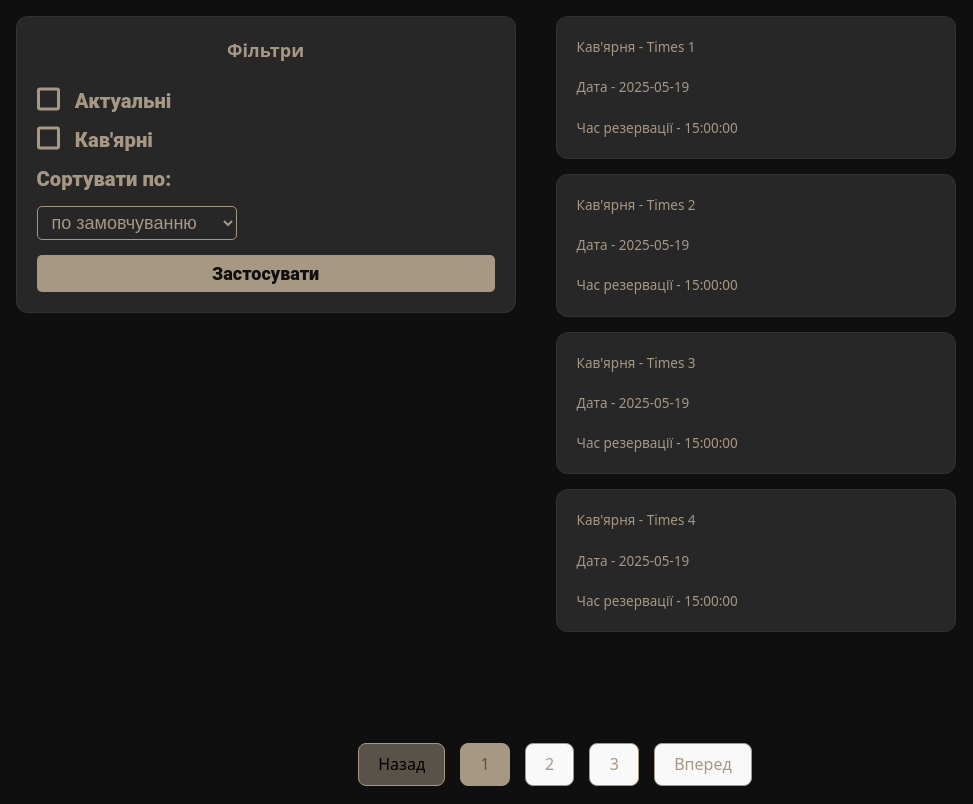
Test: Тестирование странички ProfileHistoryPage › Проверяем работу пагинации
This screenshot has width=973, height=804.
Expected: the text "Кав'ярня - Times 1" is shown, top-left (577, 38), bottom-right (696, 56)
Expected: the text "Кав'ярня - Times 2" is shown, top-left (577, 196), bottom-right (696, 214)
Click the button "Вперед" at (703, 764), box top-left (654, 743), bottom-right (752, 786)
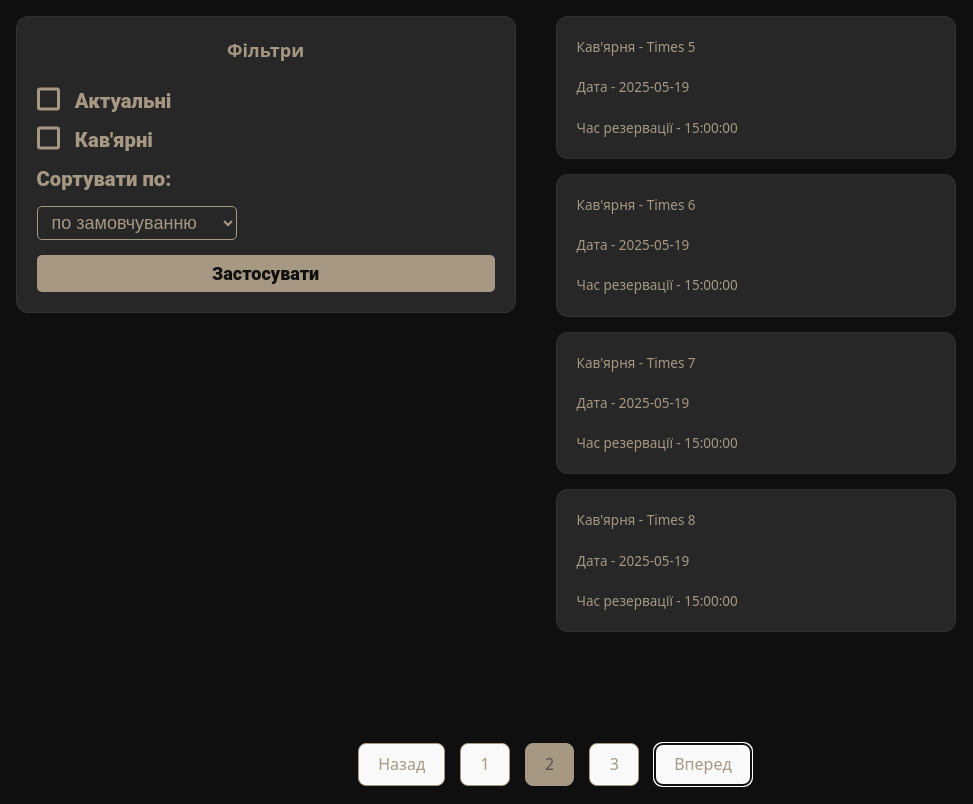
Now the text "Кав'ярня - Times 5" is shown, box top-left (577, 38), bottom-right (696, 56)
Now the text "Кав'ярня - Times 6" is shown, box top-left (577, 196), bottom-right (696, 214)
Now the text "Кав'ярня - Times 7" is shown, box top-left (577, 354), bottom-right (696, 372)
Click the button "3" at (614, 764), box top-left (590, 743), bottom-right (639, 786)
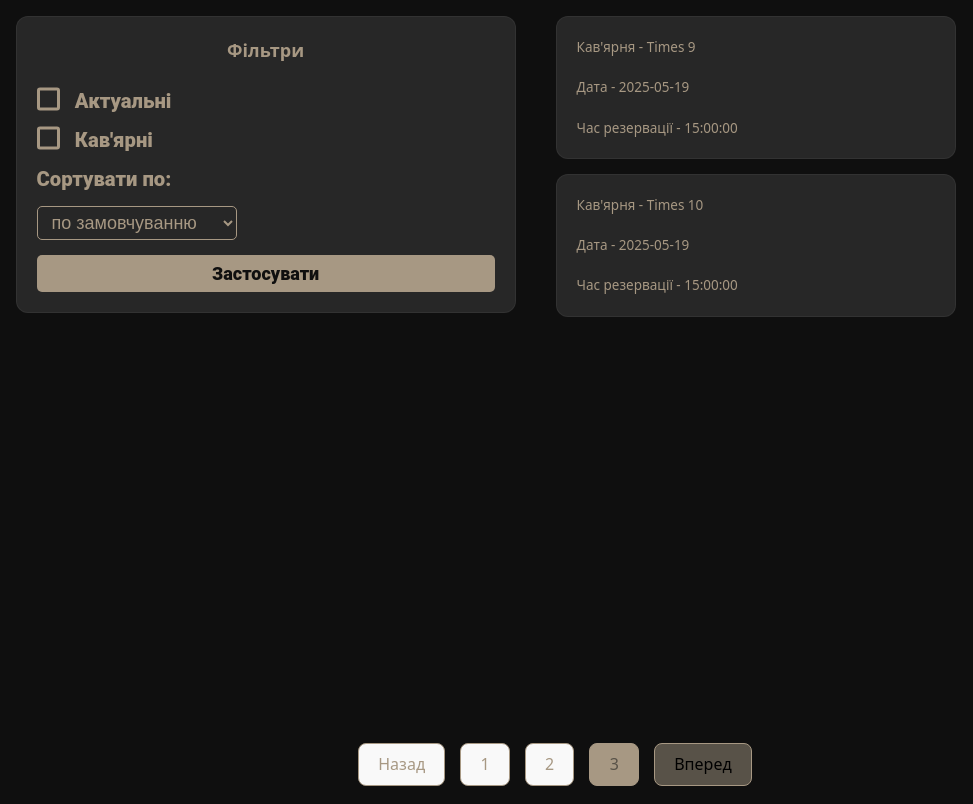
Now the text "Кав'ярня - Times 9" is shown, box top-left (577, 38), bottom-right (696, 56)
Now the text "Кав'ярня - Times 10" is shown, box top-left (577, 196), bottom-right (703, 214)
Click the button "1" at (485, 764), box top-left (460, 743), bottom-right (510, 786)
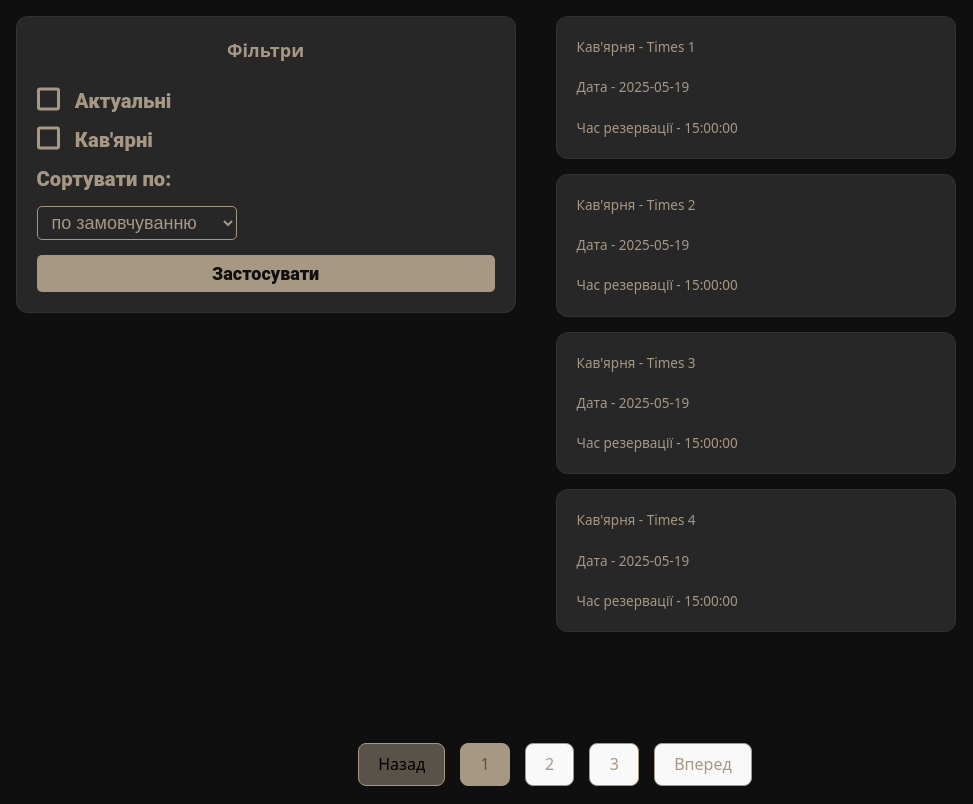
Now the text "Кав'ярня - Times 1" is shown, box top-left (577, 38), bottom-right (696, 56)
Now the text "Кав'ярня - Times 2" is shown, box top-left (577, 196), bottom-right (696, 214)
Now the text "Кав'ярня - Times 3" is shown, box top-left (577, 354), bottom-right (696, 372)
